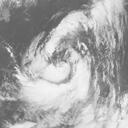cyclone: (18, 42, 92, 112)
